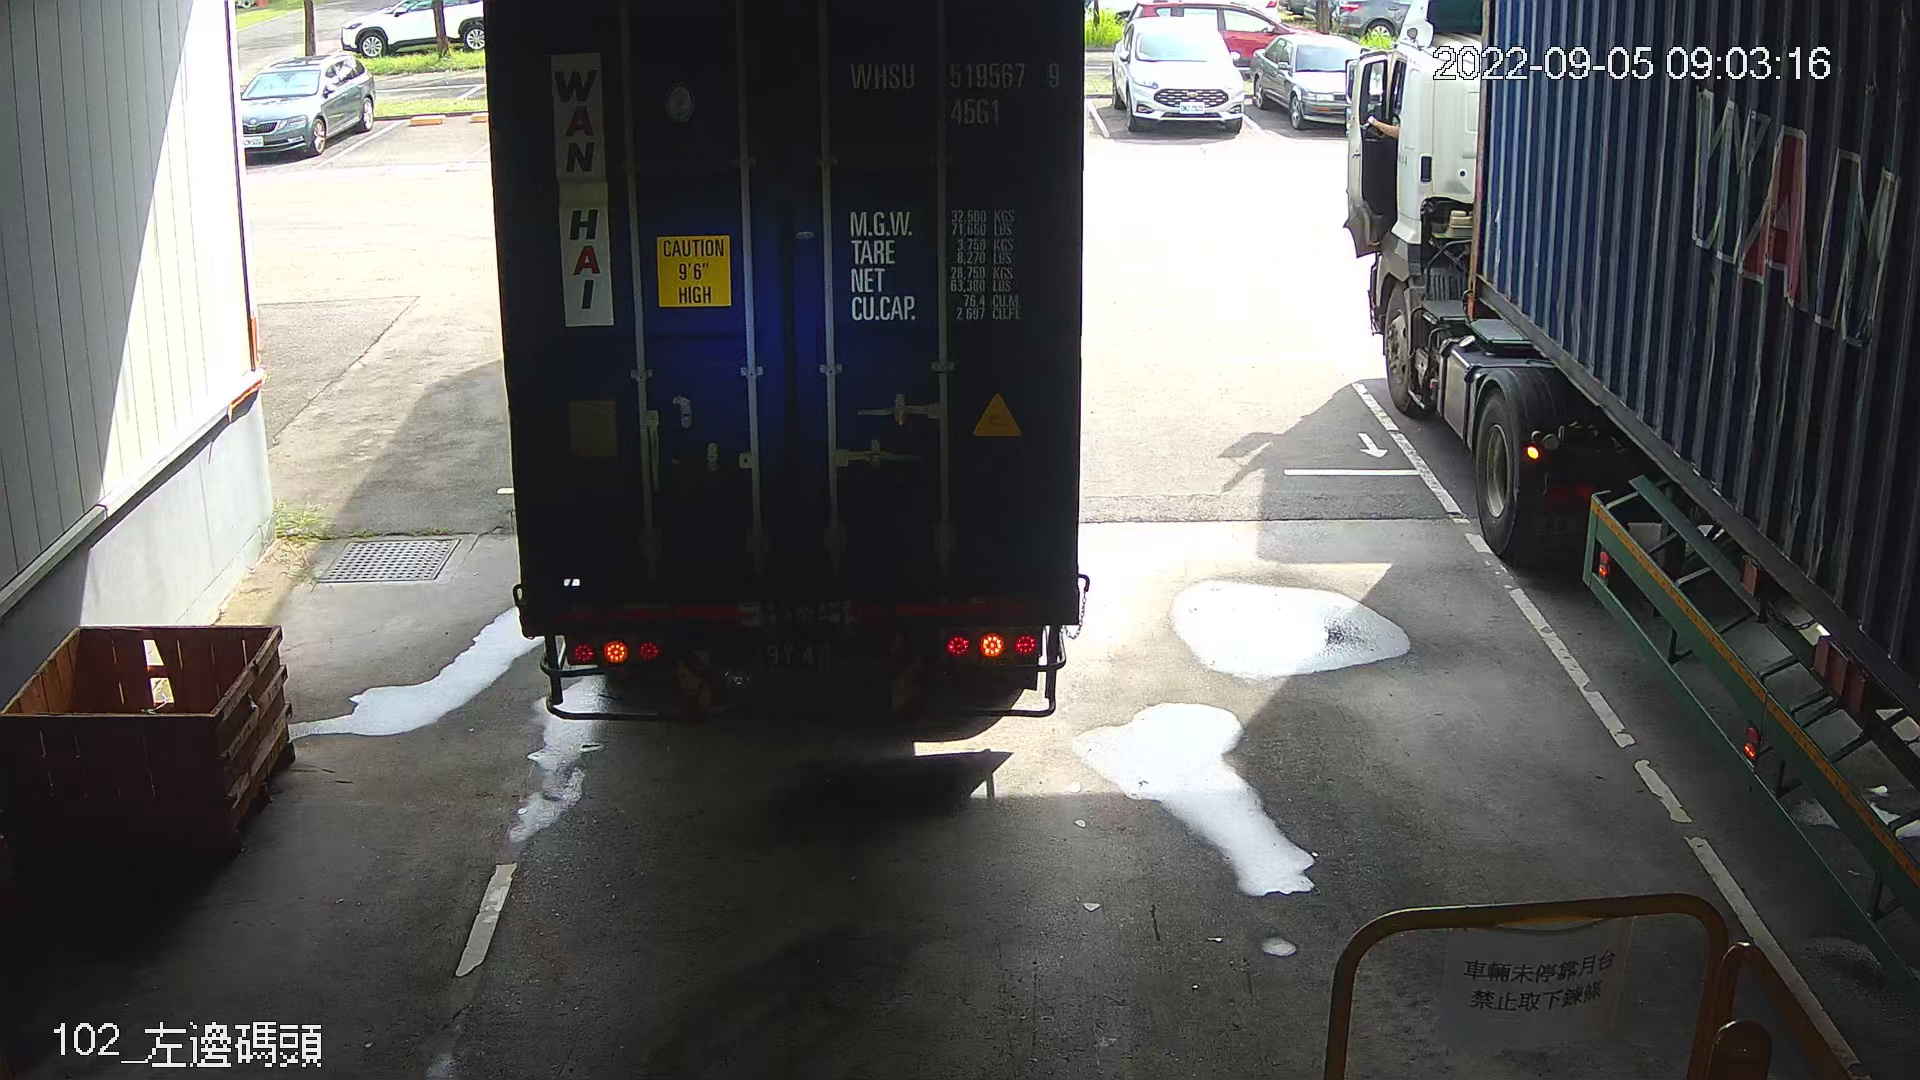container: (837, 42, 1069, 133)
